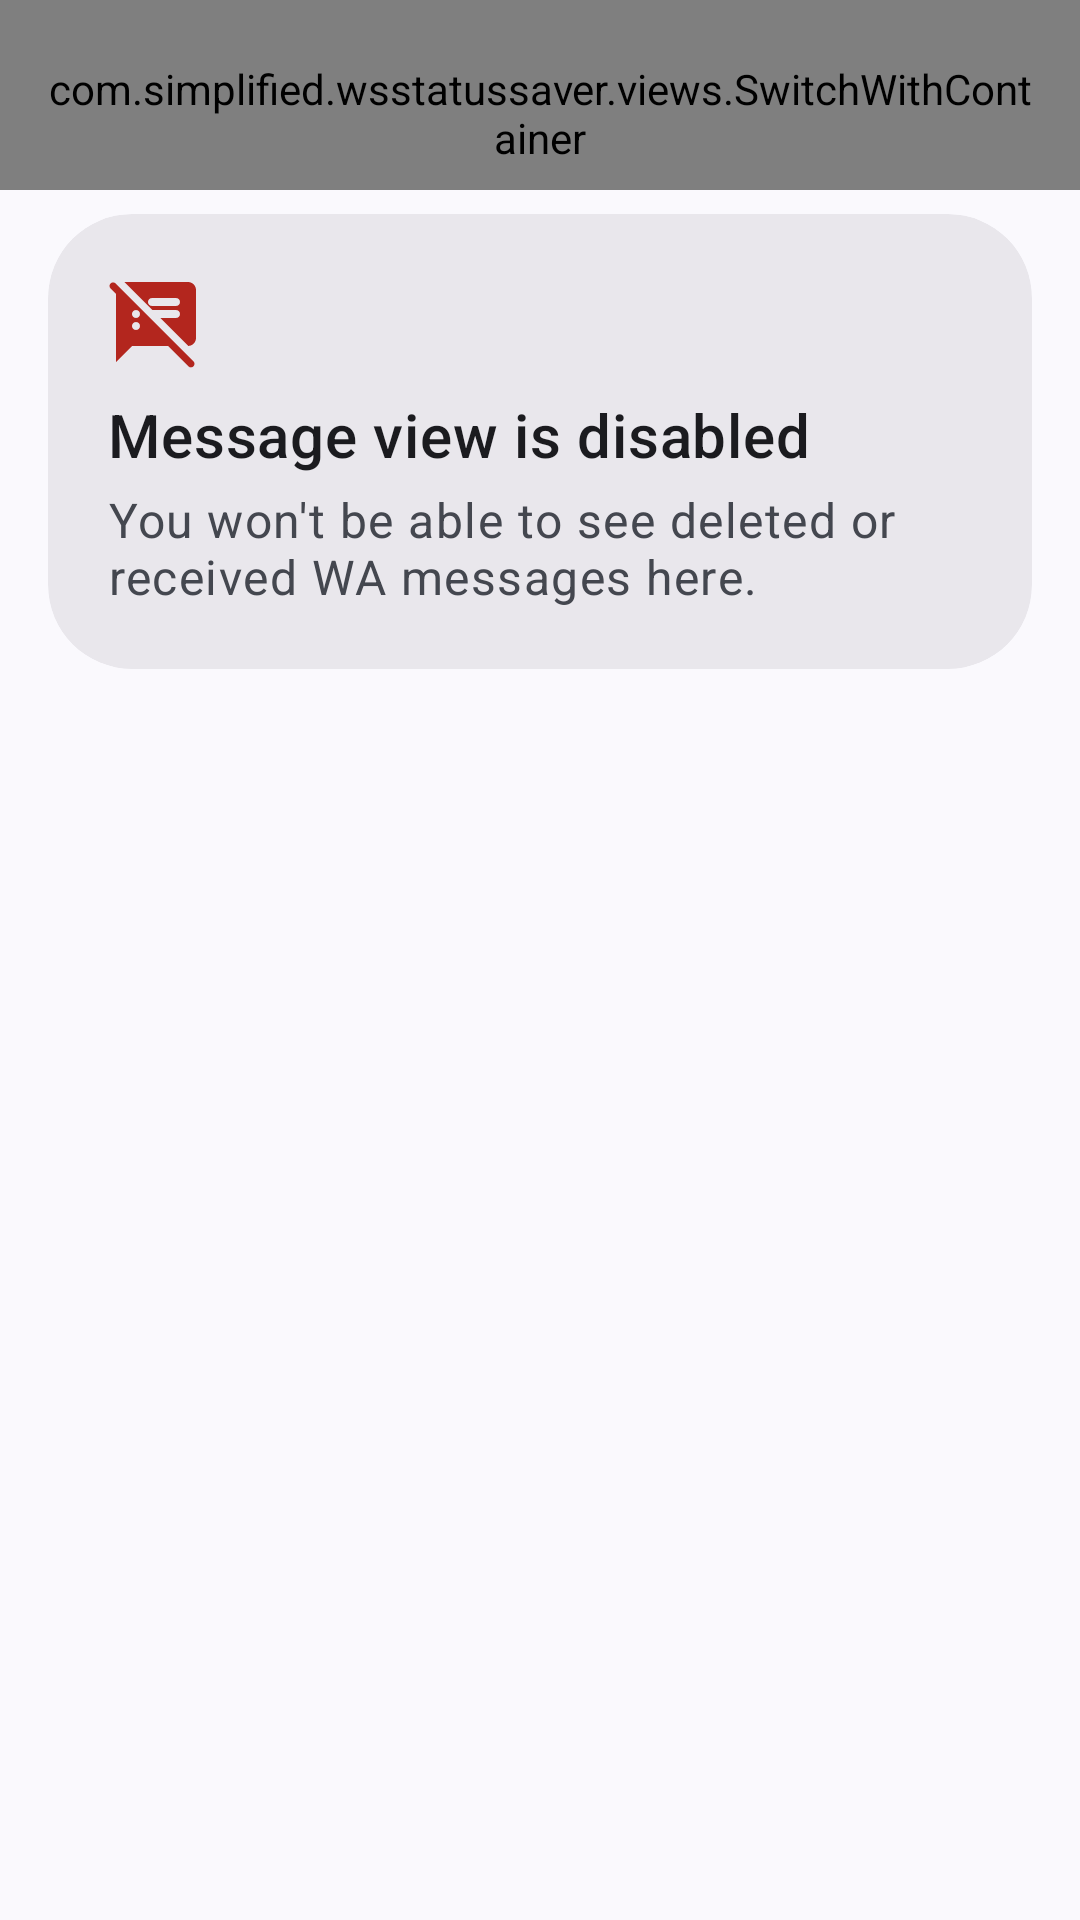

Named icons in this screenshot (1080x1920) and their bounding boxes, (x1, y1, x2, y2):
speaker notes off: (109, 282, 196, 368)
